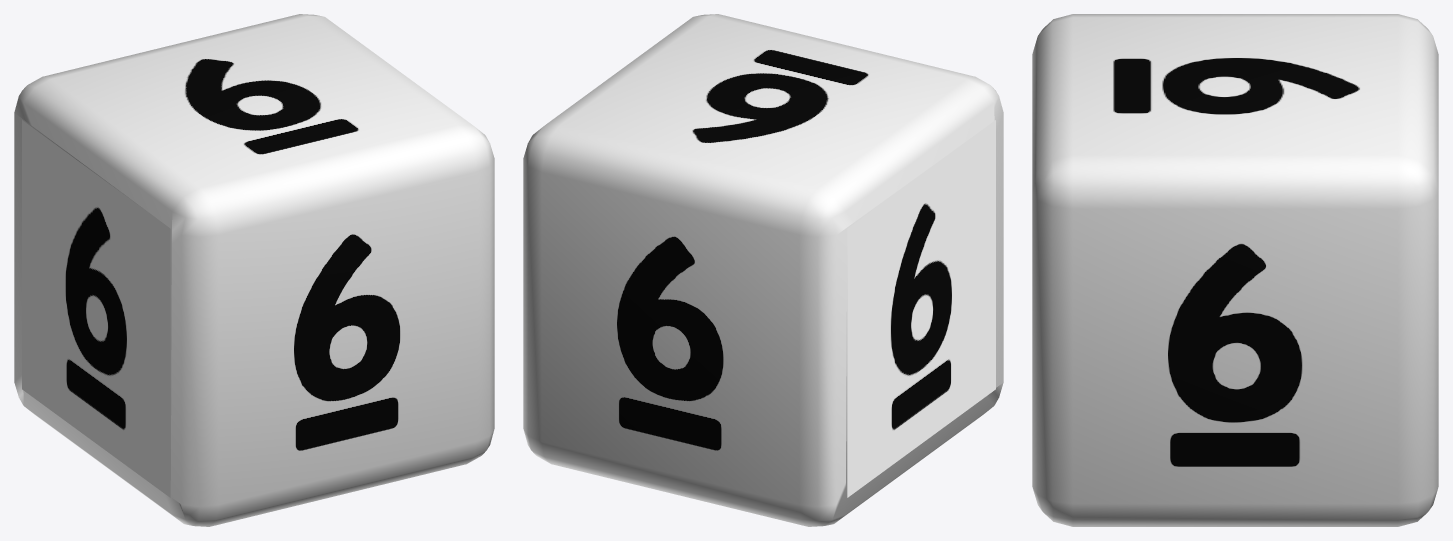
The model's file is FrudDice4.fbx.
The picture shows the model from 3 angles, left to right: view 1: azimuth 30°, elevation 25°; view 2: azimuth 150°, elevation 25°; view 3: azimuth 270°, elevation 25°; orthographic projection. The views are drawn at different scales.
Visible parts, largest first — view 1: Cube; view 2: Cube; view 3: Cube.
Boxes of the visible parts, x1=… form: Cube: x1=14, y1=14, x2=494, y2=526; Cube: x1=523, y1=14, x2=1003, y2=526; Cube: x1=1032, y1=14, x2=1438, y2=526.
Size of the model in its own units: 198 by 200 by 200.
